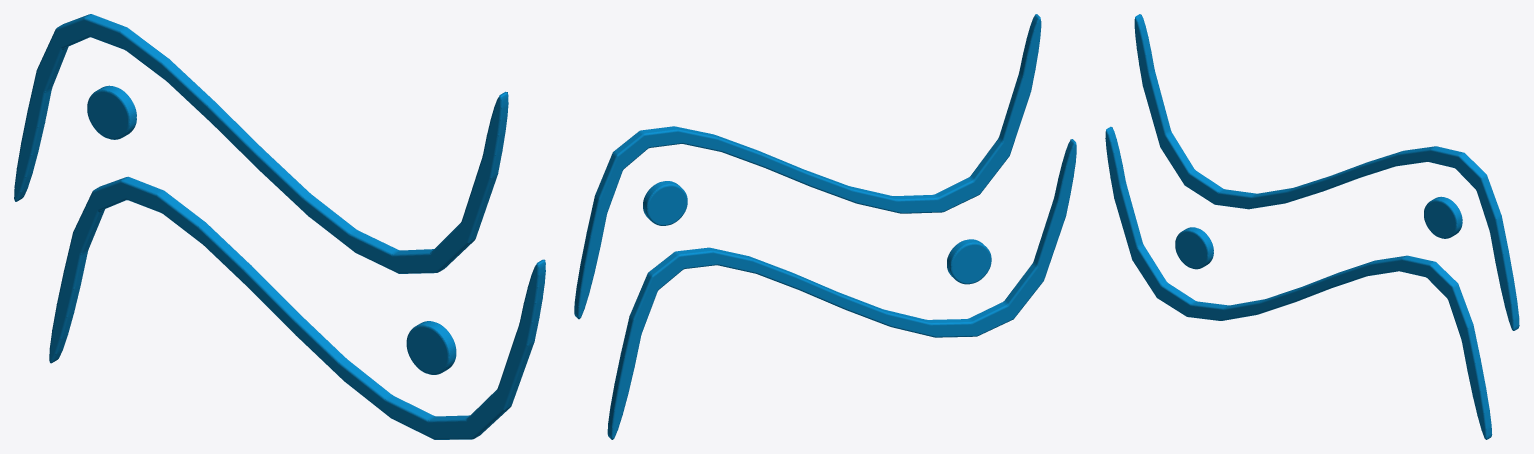
The model's file is water_symbol.fbx.
The picture shows the model from 3 angles, left to right: view 1: azimuth 90°, elevation 25°; view 2: azimuth 150°, elevation 25°; view 3: azimuth 270°, elevation 25°; orthographic projection. The views are drawn at different scales.
Visible parts, largest first — view 1: NurbsCircle; view 2: NurbsCircle; view 3: NurbsCircle.
Boxes of the visible parts, box(x1,y1,x2,y2) form: NurbsCircle: box(14, 14, 545, 439); NurbsCircle: box(574, 14, 1076, 439); NurbsCircle: box(1105, 14, 1519, 439).
Size of the model in its own units: 95.09 by 109 by 130.
